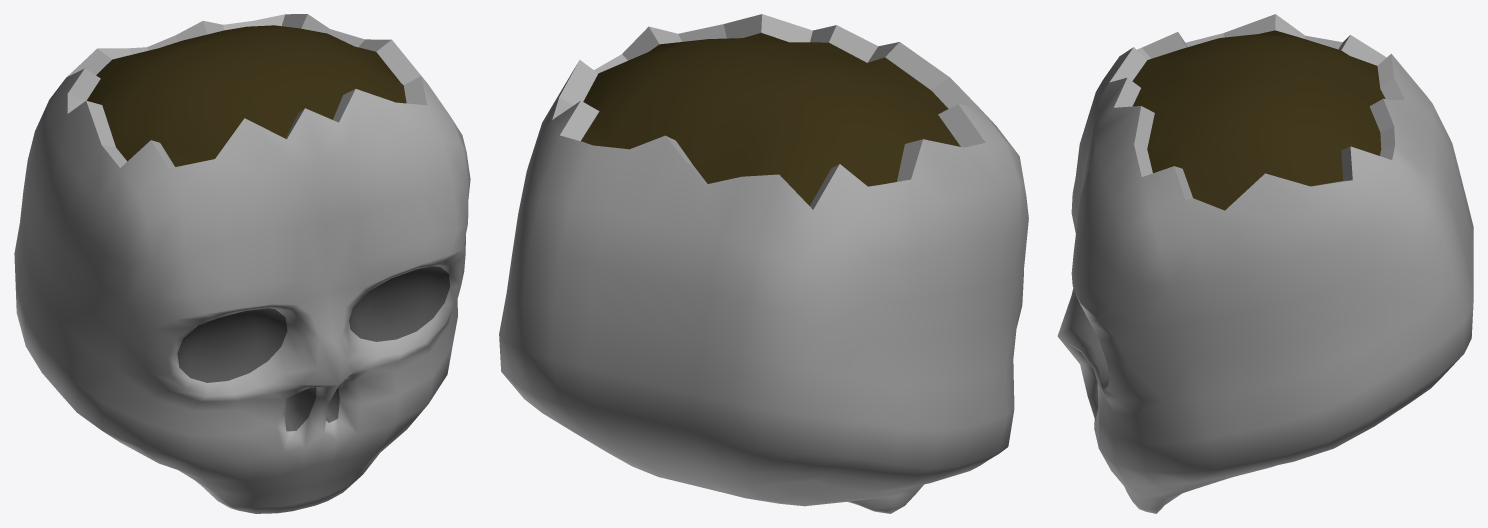
File: Calavera FBX.fbx
3 renders of one model, left to right at view 1: azimuth 30°, elevation 25°; view 2: azimuth 150°, elevation 25°; view 3: azimuth 270°, elevation 25°, orthographic. The views are drawn at different scales.
Visible parts, largest first — view 1: polySurface191; view 2: polySurface191; view 3: polySurface191.
Part boxes in pixels (box(x1,y1,x2,y2)): polySurface191: box(14, 14, 470, 513); polySurface191: box(499, 14, 1028, 513); polySurface191: box(1057, 14, 1473, 513).
Bounding box in the file's own units: 0.00863 × 0.00905 × 0.00801.
